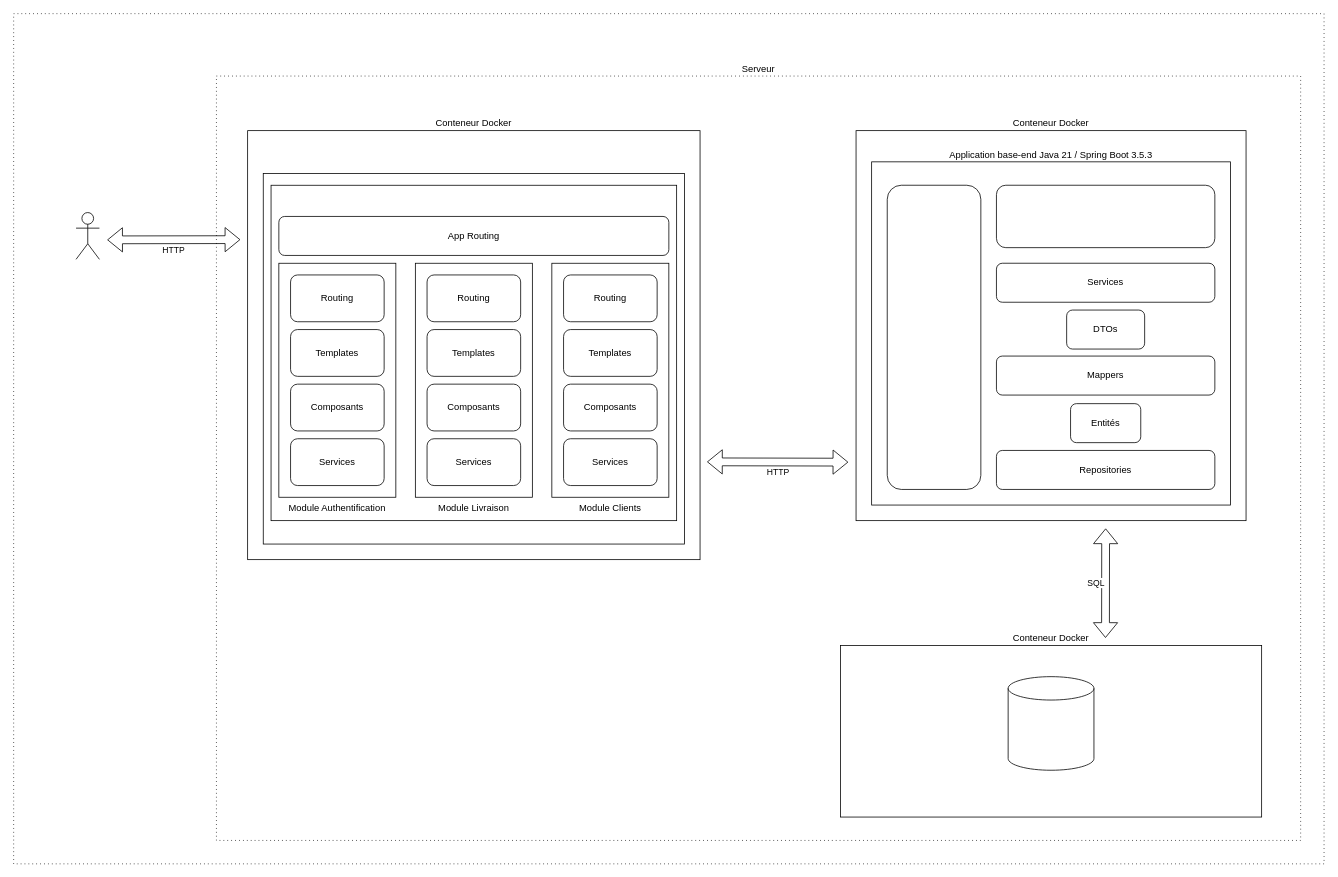
Image size: 1338x877. Some labels were removed from this diagram. Here are the shapes that lost their labels. From the top down, the box of each, then its label:
(75, 212, 99, 259): Utilisateur
(996, 184, 1215, 248): Controlleurs
(270, 184, 677, 521): App Module
(886, 184, 981, 489): Filters
(262, 173, 684, 544): Application front-end Angular 20
(1007, 676, 1094, 770): Base de données MySQL 9
